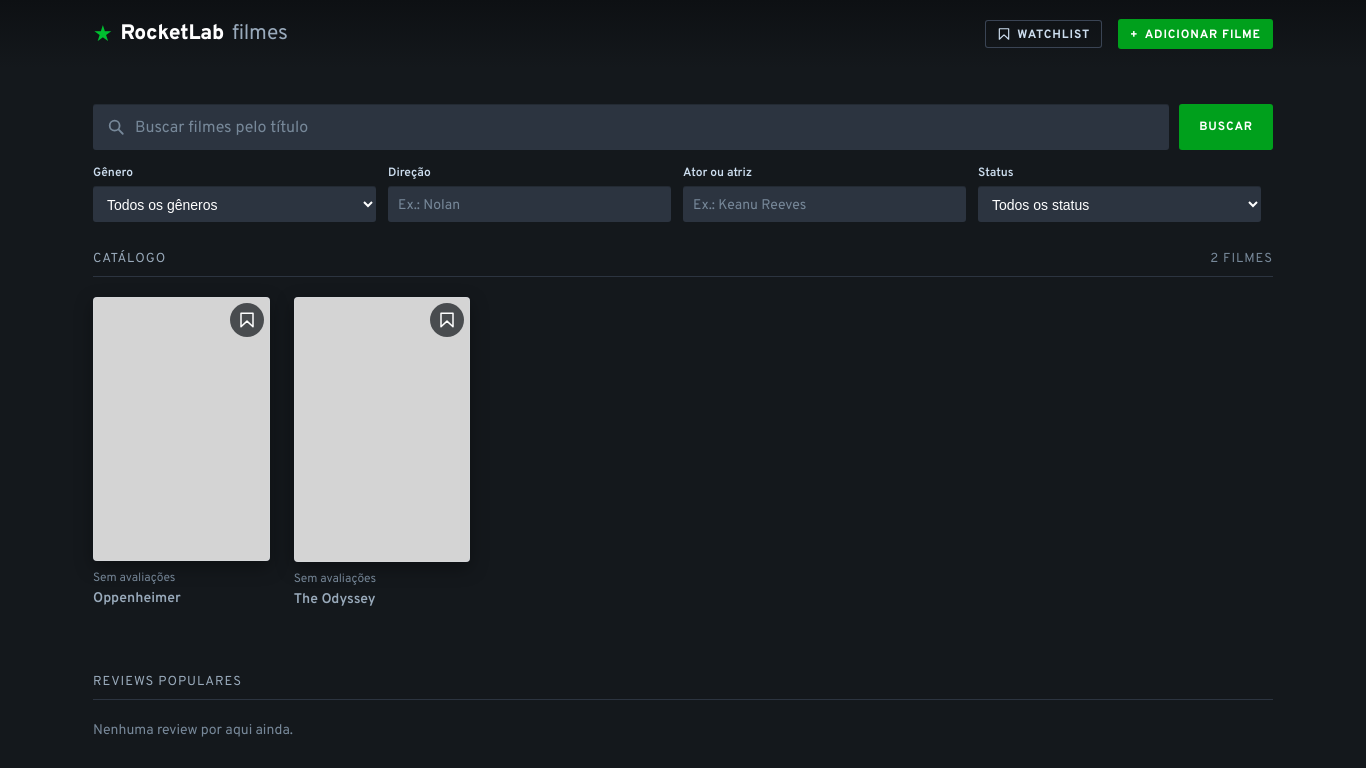
it: Busca no catálogo › filtra por status assim que ele é escolhido
This screenshot has width=1366, height=768.
Select "Planejado" in the dropdown labelled "Status" at (1120, 204), box [978, 186, 1261, 222]
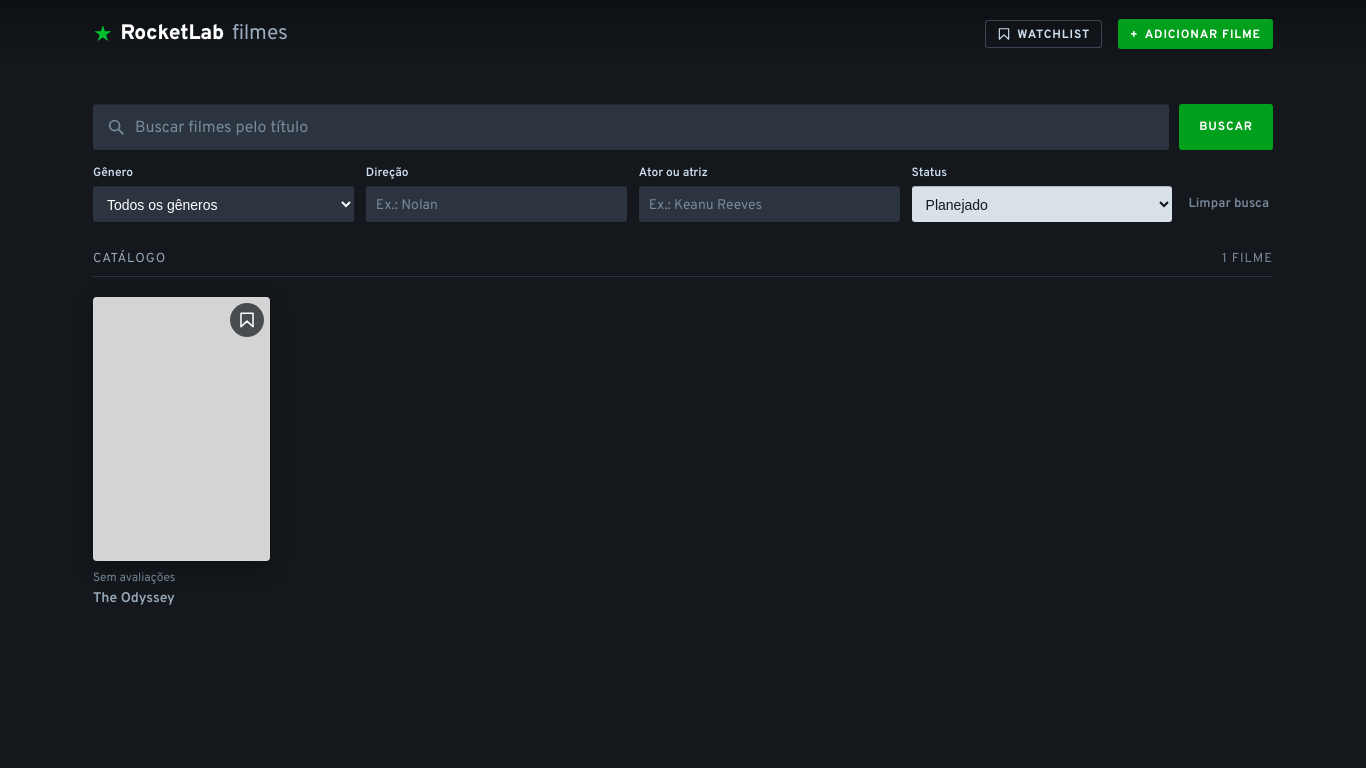
Expected: the text "1 filme" is shown, [1222, 250, 1273, 270]
